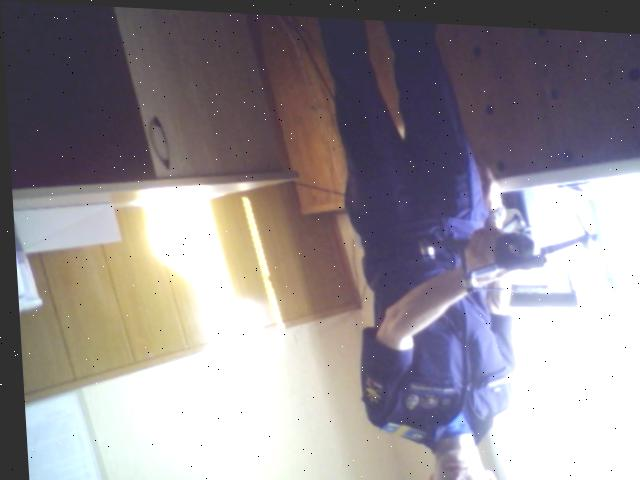drone: (399, 173, 620, 308)
